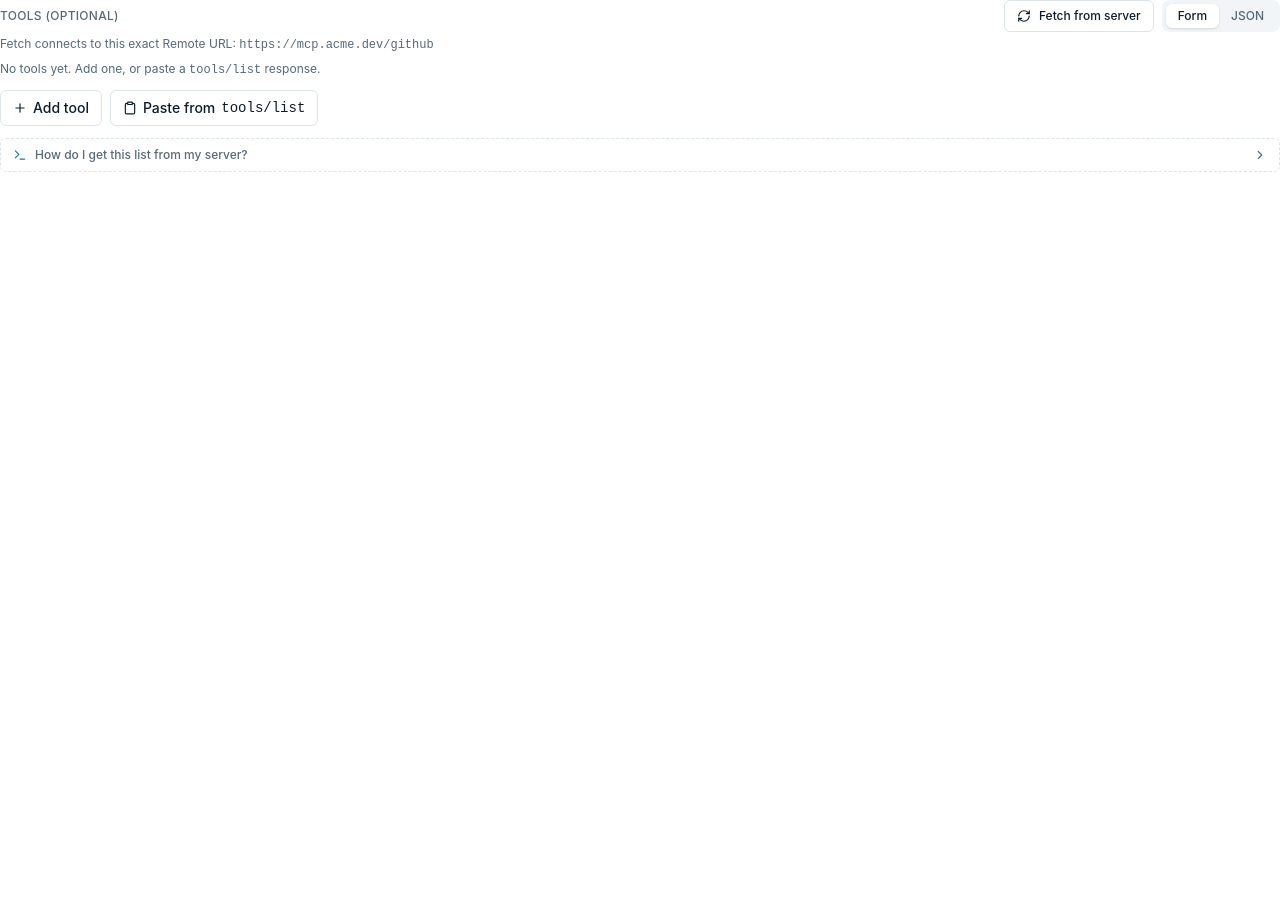
Test: Fetch from server › says so when the server declares no tools
Click the button "Fetch from server" at {"x": 1079, "y": 16}, box [1004, 0, 1154, 32]
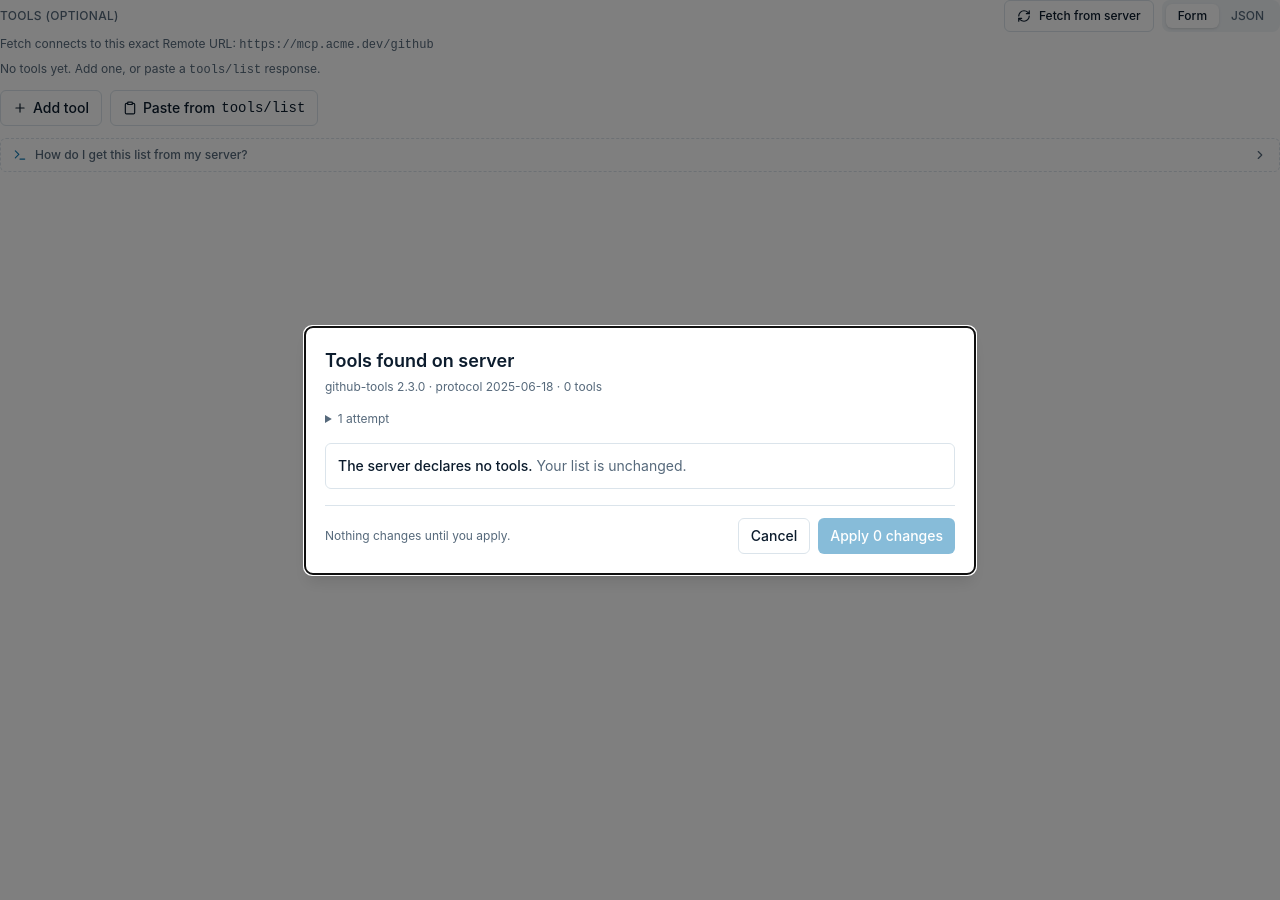
Now the text "The server declares no tools." is shown, box [338, 456, 533, 474]
Now the button "Apply 0 changes" is disabled, box [818, 518, 955, 554]
